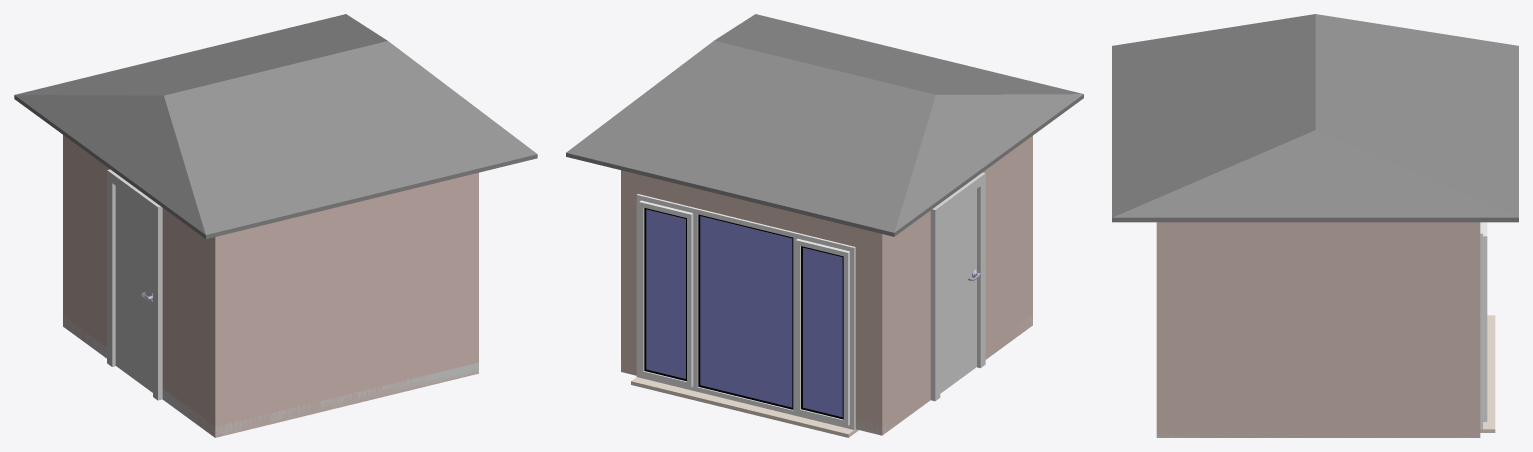
The model's file is Talo2V10.fbx.
3 views of the same model, side by side, from view 1: azimuth 30°, elevation 25°; view 2: azimuth 150°, elevation 25°; view 3: azimuth 270°, elevation 25° (orthographic). The views are drawn at different scales.
Parts seen in each view (by area): view 1: Room; view 2: Room; view 3: Room.
Boxes of the visible parts, <box> form: Room: <box>14,14,537,437</box>; Room: <box>566,14,1083,437</box>; Room: <box>1112,14,1518,437</box>.
Size of the model in its own units: 377 by 310 by 377.
